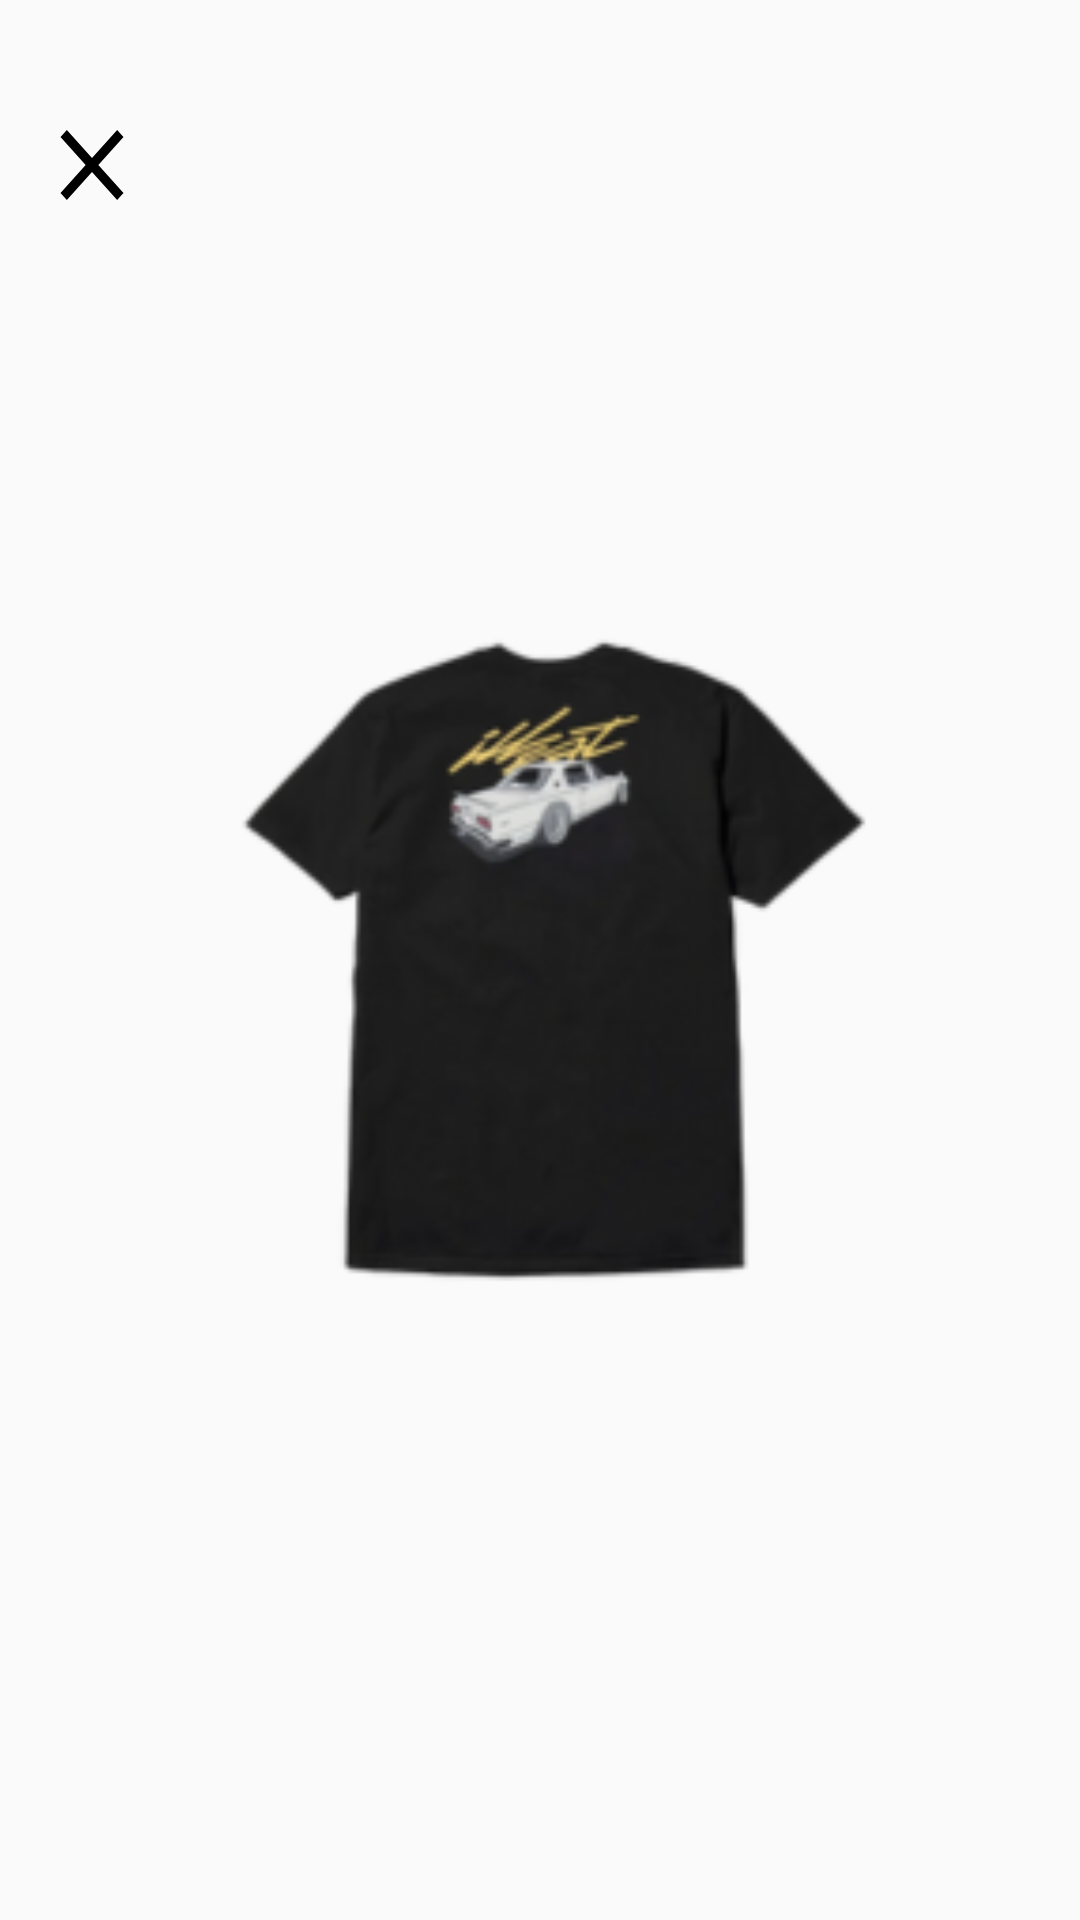

Icon click points for this 1080x1920 phone screenshot, format [x,y]:
close: [92,165]
